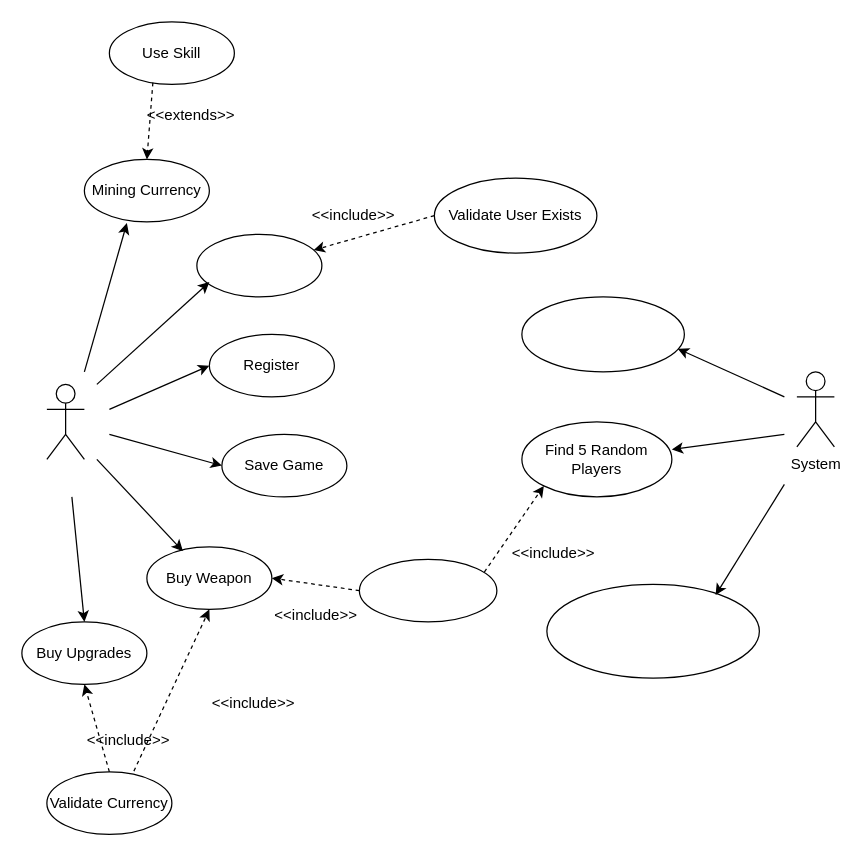
The diagram is 863 pixels wide and 856 high, and some of its shapes have lost their labels. Here are the shapes that lost their labels. From the top down, the box of each, then its label:
(196, 233, 322, 297): Login
(521, 296, 684, 372): Add Passive Income
(46, 383, 84, 459): User
(358, 558, 497, 622): Attack 1 Player
(546, 583, 759, 678): Show Notifications based on Time/Event
